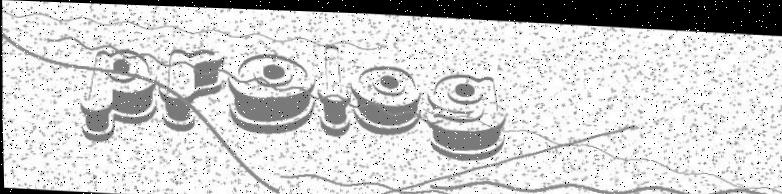g: (425, 69, 509, 159)
l: (315, 42, 352, 134)
o: (225, 50, 315, 134), (349, 61, 422, 134)
p: (78, 46, 157, 142)
r: (157, 46, 225, 132)
